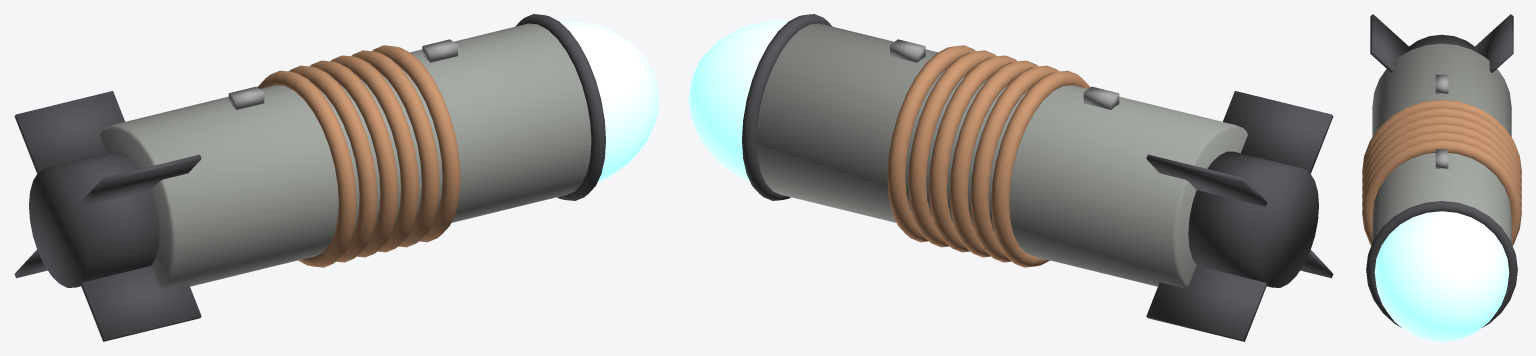
The model's file is exp_emp.glb.
3 views of the same model, side by side, from view 1: azimuth 30°, elevation 25°; view 2: azimuth 150°, elevation 25°; view 3: azimuth 270°, elevation 25° (orthographic). The views are drawn at different scales.
Visible parts, largest first — view 1: exp_emp; view 2: exp_emp; view 3: exp_emp.
Boxes of the visible parts, x1,y1,x2,y2 form: exp_emp: [14, 14, 659, 341]; exp_emp: [688, 14, 1333, 341]; exp_emp: [1362, 14, 1521, 341].
Size of the model in its own units: 0.8534 by 0.2528 by 0.2528.
